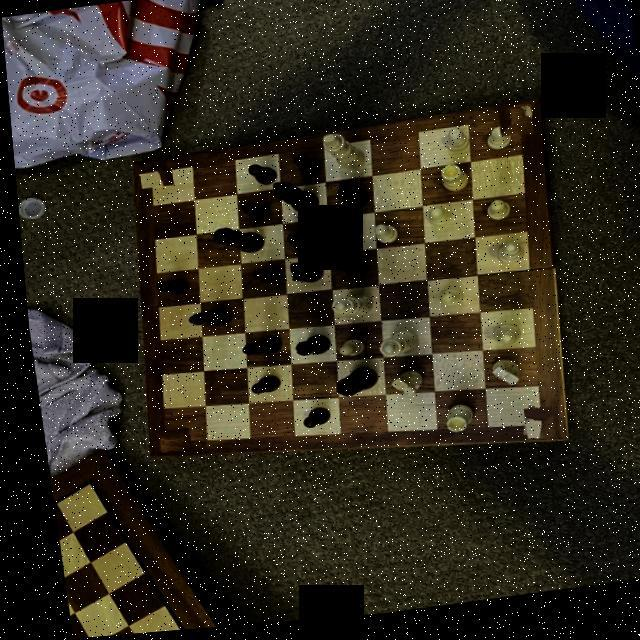chess-table-corners: (512, 411, 550, 449), (496, 114, 531, 146), (135, 162, 170, 190), (150, 430, 183, 454)
